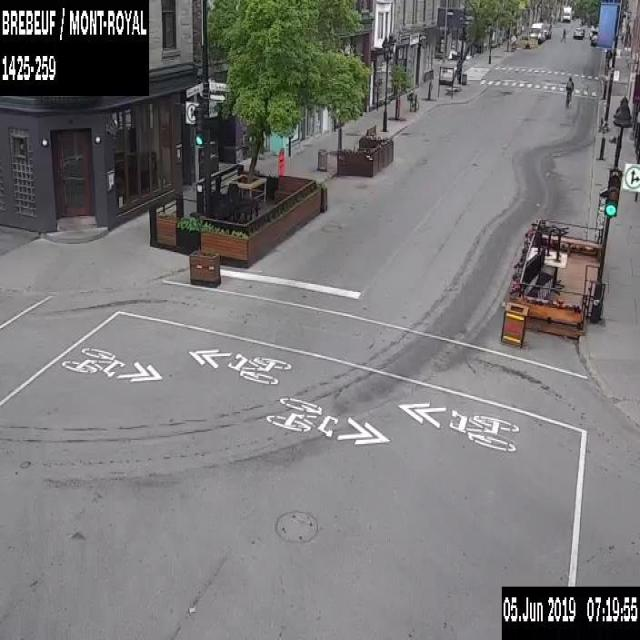construction: (277, 147, 284, 174)
cyclist: (564, 75, 574, 105)
pedestrian: (560, 27, 566, 42)
vehicle: (528, 21, 545, 43), (540, 22, 551, 40), (561, 4, 572, 21), (572, 24, 585, 38)
